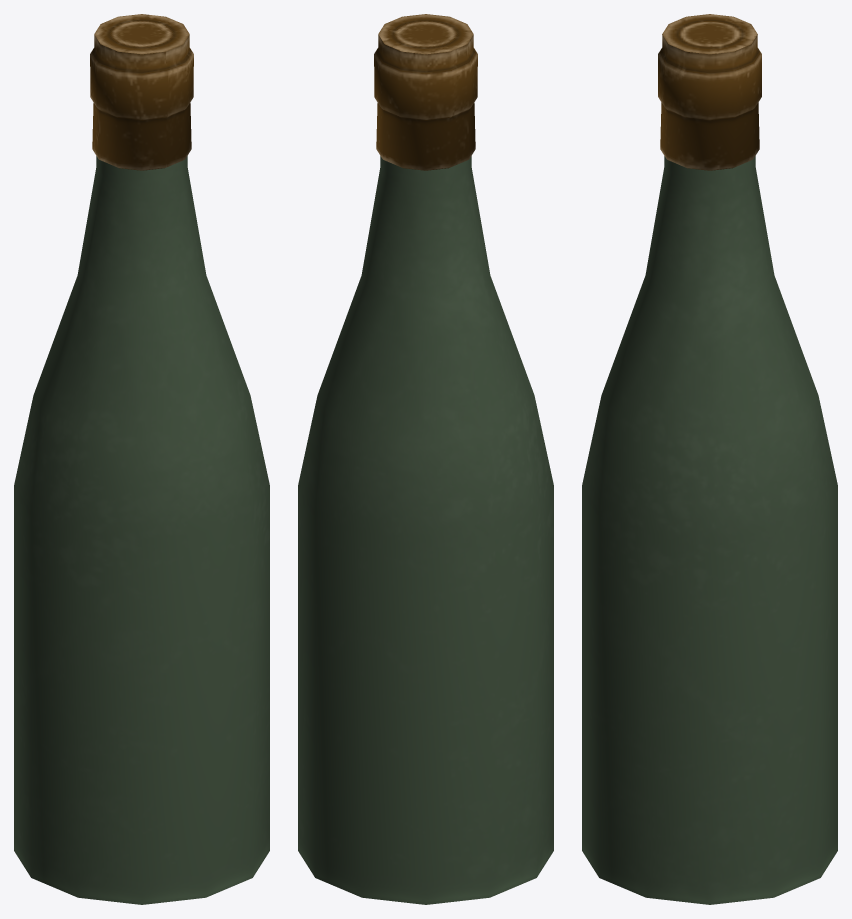
File: LOD0_corkedSmallBottle_1.fbx
3 views of the same model, side by side, from view 1: azimuth 30°, elevation 25°; view 2: azimuth 150°, elevation 25°; view 3: azimuth 270°, elevation 25° (orthographic).
Parts seen in each view (by area): view 1: LOD0_corkedSmallBottle_1; view 2: LOD0_corkedSmallBottle_1; view 3: LOD0_corkedSmallBottle_1.
Part boxes in pixels (bbox=[...]): LOD0_corkedSmallBottle_1: bbox=[14, 14, 269, 904]; LOD0_corkedSmallBottle_1: bbox=[298, 14, 553, 904]; LOD0_corkedSmallBottle_1: bbox=[582, 14, 837, 904].
Size of the model in its own units: 0.0929 by 0.3272 by 0.0929.
